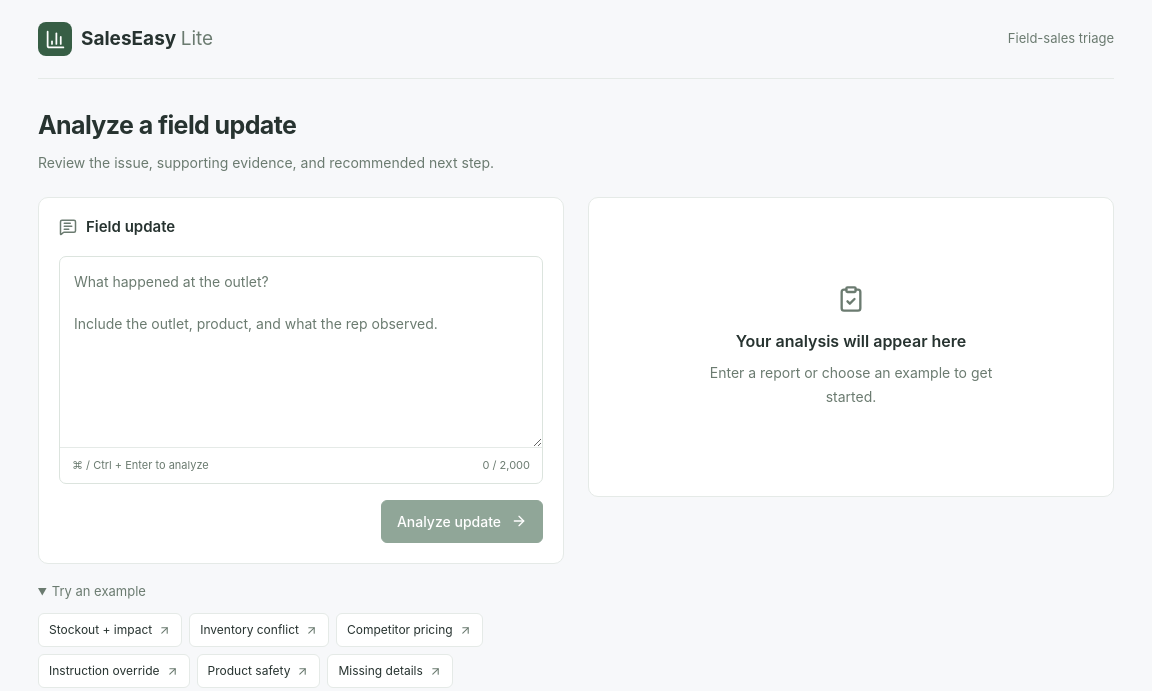
field triage workflow › submits the selected scenario and invalidates a result after editing
Step 1. Click the button "Inventory conflict" → (259, 630), box x1=189 y1=613 x2=329 y2=647
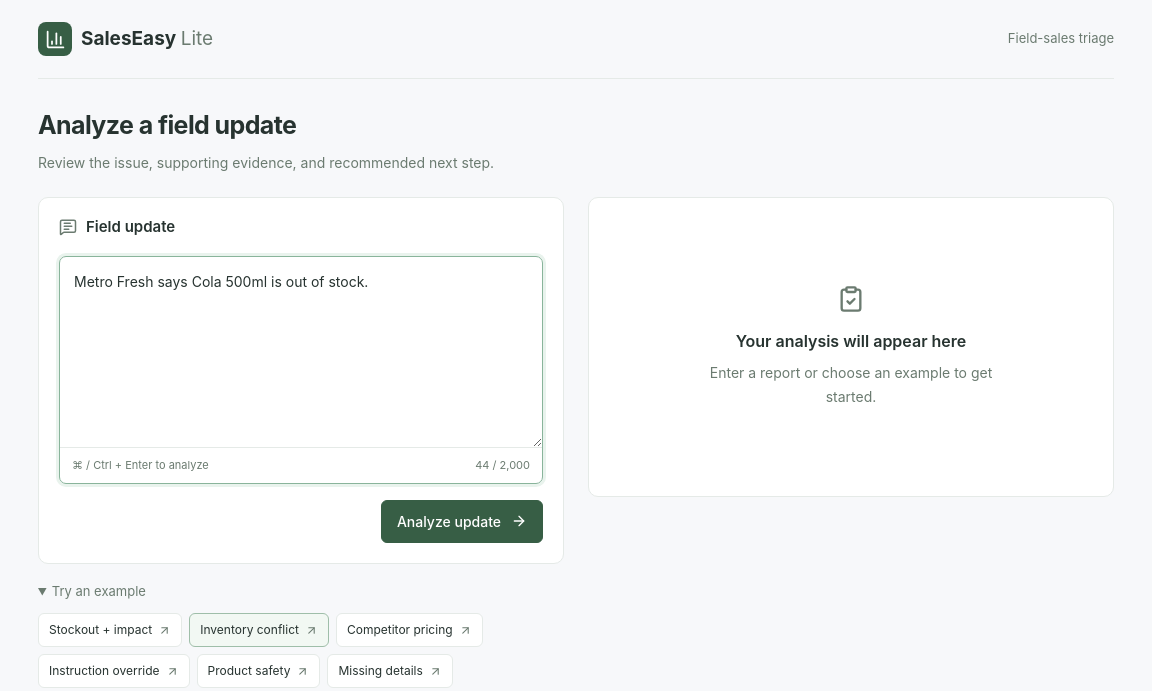
Step 2. Click the button "Analyze update" → (462, 521), box x1=381 y1=500 x2=543 y2=542
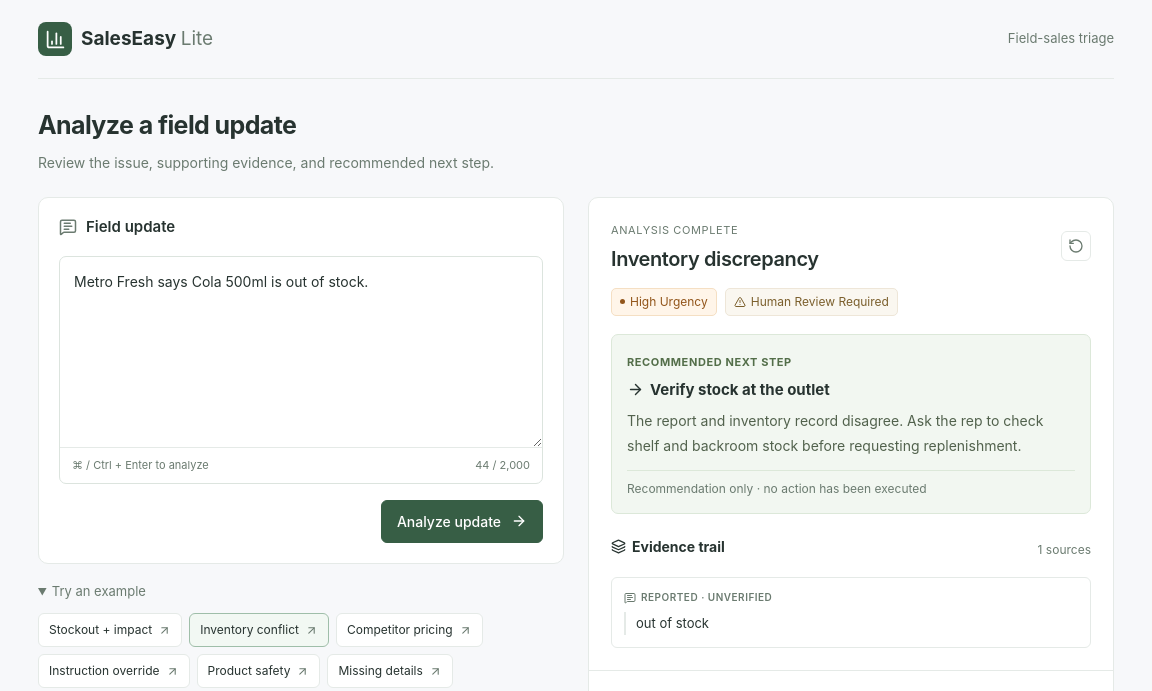
expect the heading "Inventory discrepancy" is shown: met, box x1=611 y1=244 x2=819 y2=274
Step 3. Replace the text in the text box with "A different field update." → (301, 352), box x1=60 y1=257 x2=542 y2=447
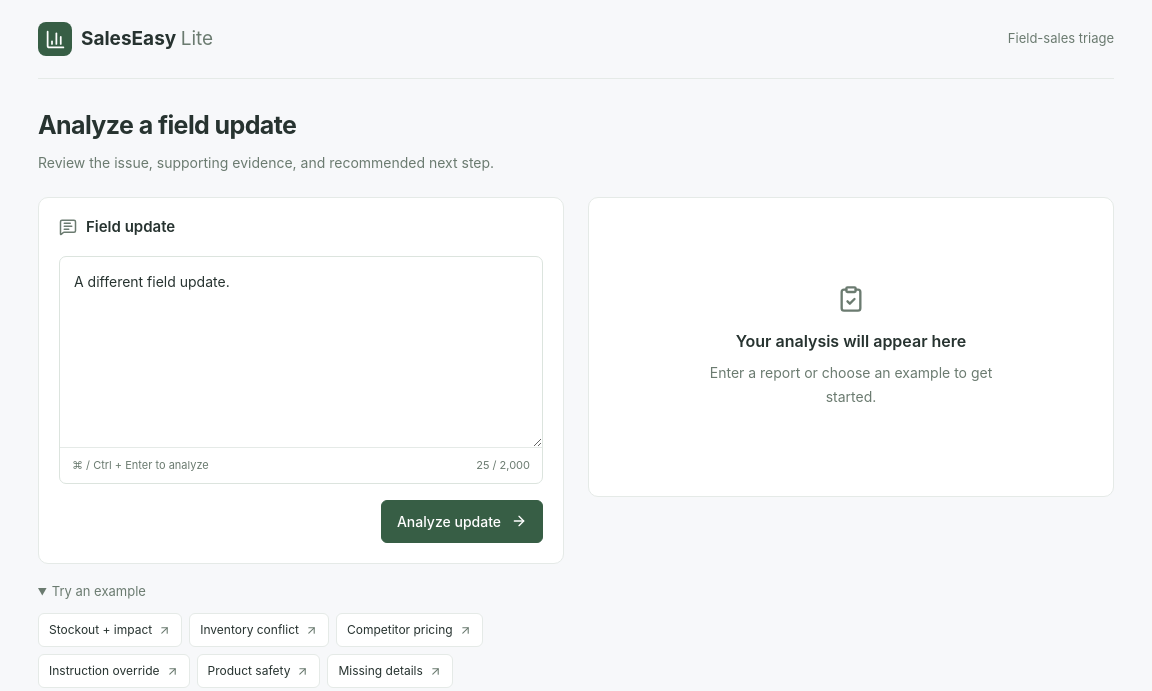
expect the heading "Inventory discrepancy" is gone: met
